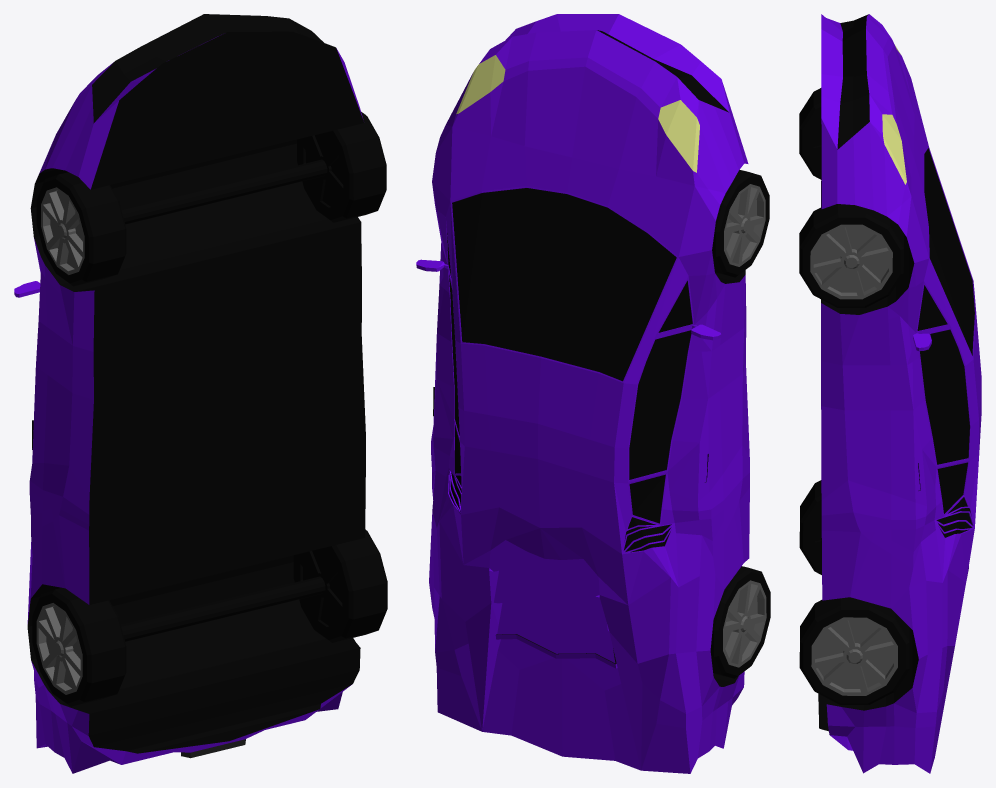
The model's file is Lambo.fbx.
3 views of the same model, side by side, from view 1: azimuth 30°, elevation 25°; view 2: azimuth 150°, elevation 25°; view 3: azimuth 270°, elevation 25° (orthographic). The views are drawn at different scales.
Parts seen in each view (by area): view 1: Lambo; view 2: Lambo; view 3: Lambo.
Boxes of the visible parts, x1,y1,x2,y2 form: Lambo: (14, 14, 387, 773); Lambo: (416, 14, 770, 773); Lambo: (799, 14, 981, 773).
Bounding box in the file's own units: 141 × 312 × 73.99.
